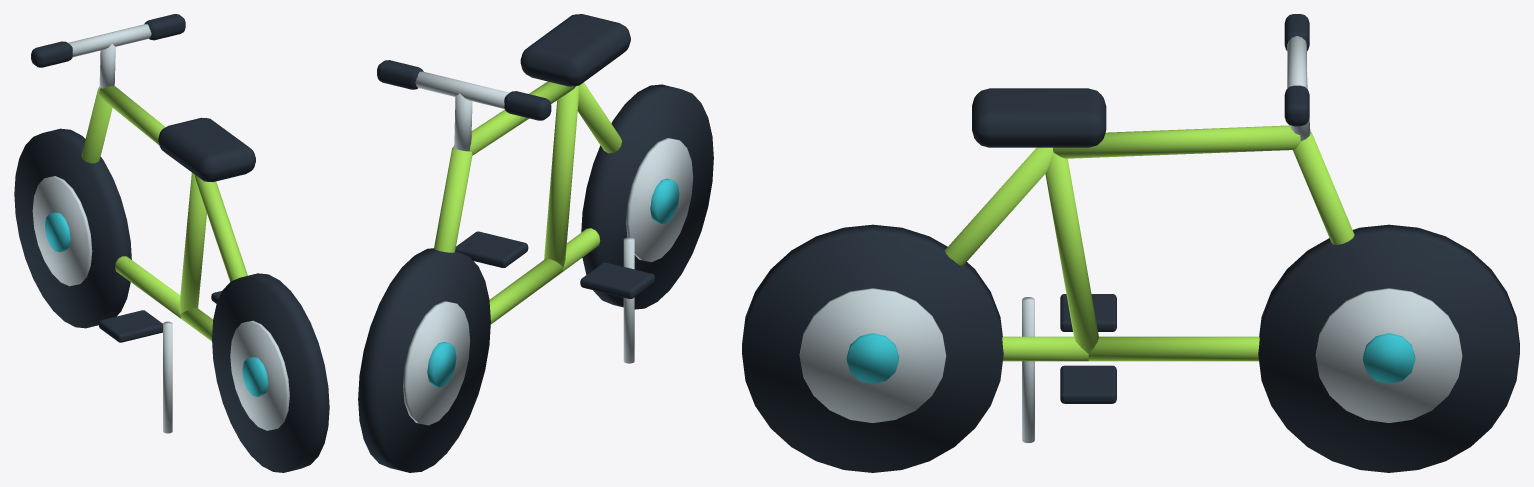
Rendered from city_bicycle.glb.
The picture shows the model from 3 angles, left to right: view 1: azimuth 30°, elevation 25°; view 2: azimuth 150°, elevation 25°; view 3: azimuth 270°, elevation 25°; orthographic projection. The views are drawn at different scales.
Parts seen in each view (by area): view 1: Bicycle wheel tyre.001, Bicycle wheel tyre, Saddle, Bicycle wheel rim.003, Bicycle wheel rim.001, Bicycle frame.002, Bicycle frame.005, Bicycle frame.003, Pedal.001, Bicycle frame.001, Handlebar, Bicycle frame (+7 smaller); view 2: Bicycle wheel tyre, Bicycle wheel tyre.001, Saddle, Bicycle wheel rim.001, Bicycle wheel rim.003, Bicycle frame.002, Bicycle frame, Pedal.001, Bicycle frame.003, Pedal, Bicycle frame.001, Handlebar (+8 smaller); view 3: Bicycle wheel tyre.001, Bicycle wheel tyre, Bicycle wheel rim, Bicycle wheel rim.002, Saddle, Bicycle frame.001, Bicycle frame.002, Bicycle frame.003, Bicycle frame.005, Bicycle frame, Pedal, Bicycle wheel hub (+6 smaller).
Part boxes in pixels (x1,y1,x2,y2): Bicycle wheel tyre.001: (212, 273, 329, 472); Bicycle wheel tyre: (14, 128, 131, 328); Saddle: (158, 117, 255, 181); Bicycle wheel rim.003: (230, 320, 289, 430); Bicycle wheel rim.001: (32, 176, 92, 286); Bicycle frame.002: (179, 172, 206, 314); Bicycle frame.005: (195, 175, 247, 281); Bicycle frame.003: (115, 256, 180, 318); Pedal.001: (99, 310, 162, 342); Bicycle frame.001: (99, 85, 165, 145); Handlebar: (68, 24, 151, 57); Bicycle frame: (81, 87, 112, 163); Bicycle wheel tyre: (358, 248, 490, 472); Bicycle wheel tyre.001: (581, 84, 713, 309); Saddle: (520, 14, 630, 86); Bicycle wheel rim.001: (403, 301, 470, 425); Bicycle wheel rim.003: (626, 138, 693, 262); Bicycle frame.002: (544, 85, 579, 266); Bicycle frame: (434, 147, 472, 252); Pedal.001: (580, 262, 654, 298); Bicycle frame.003: (489, 258, 563, 324); Pedal: (455, 231, 528, 267); Bicycle frame.001: (453, 81, 575, 155); Handlebar: (415, 71, 509, 108); Bicycle wheel tyre.001: (742, 224, 1003, 472); Bicycle wheel tyre: (1258, 224, 1519, 472); Bicycle wheel rim: (1315, 288, 1462, 422); Bicycle wheel rim.002: (799, 288, 946, 422); Saddle: (972, 88, 1106, 147); Bicycle frame.001: (1053, 125, 1300, 158); Bicycle frame.002: (1045, 152, 1098, 353); Bicycle frame.003: (1088, 336, 1259, 361); Bicycle frame.005: (944, 147, 1053, 266); Bicycle frame: (1293, 131, 1354, 244); Pedal: (1060, 365, 1116, 403); Bicycle wheel hub: (1363, 333, 1415, 383).
Size of the model in its own units: 0.68 by 1.28 by 2.2.
